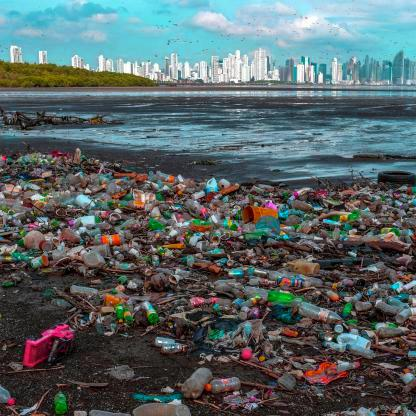Metal: (337, 335, 373, 352), (96, 231, 120, 245)
Plastic: (295, 301, 339, 324), (203, 376, 242, 396), (185, 367, 208, 397), (266, 290, 297, 308), (1, 382, 16, 410), (53, 387, 69, 413), (143, 298, 156, 323), (200, 246, 223, 258)
